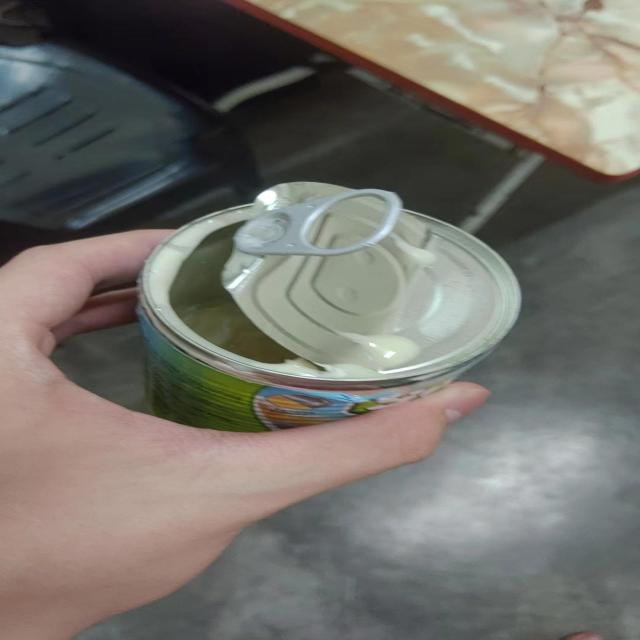can: (134, 179, 520, 429)
pop tab: (241, 181, 408, 260)
